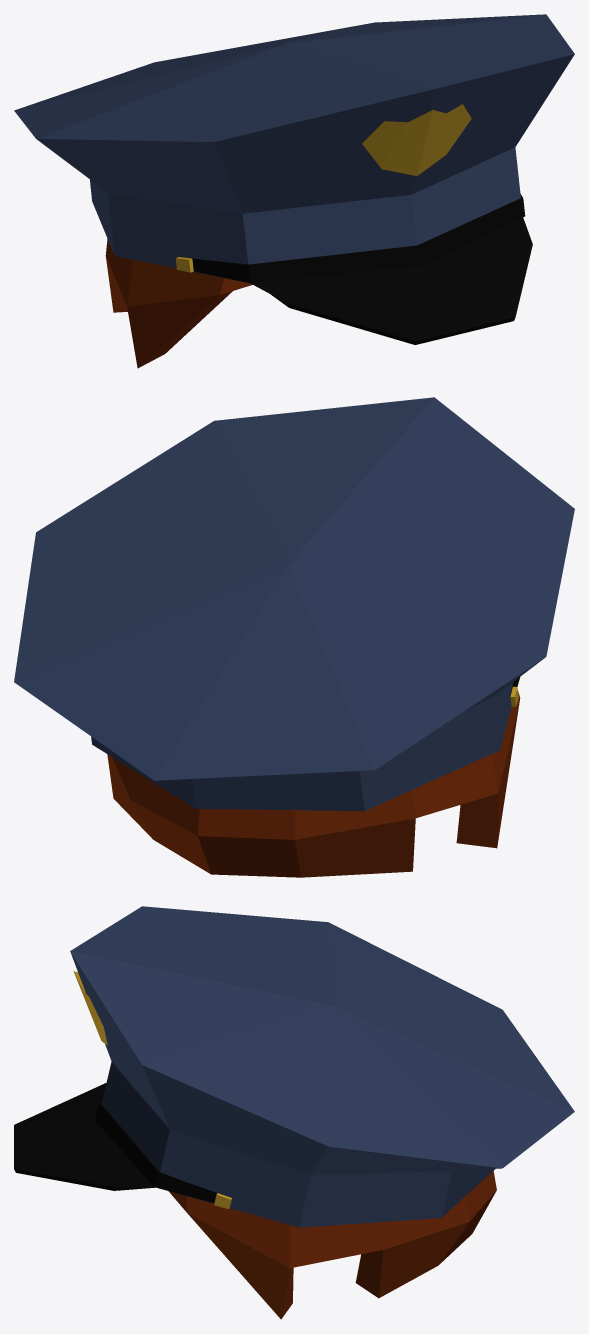
File: Hat_Cap.fbx
3 views of the same model, one above another, from view 1: azimuth 30°, elevation 25°; view 2: azimuth 150°, elevation 25°; view 3: azimuth 270°, elevation 25° (orthographic). The views are drawn at different scales.
Visible parts, largest first — view 1: cop_hair; view 2: cop_hair; view 3: cop_hair.
Part boxes in pixels (x1,y1,x2,y2): cop_hair: (14, 14, 574, 368); cop_hair: (14, 397, 574, 877); cop_hair: (14, 906, 574, 1319).
Size of the model in its own units: 123 by 74.27 by 130.
